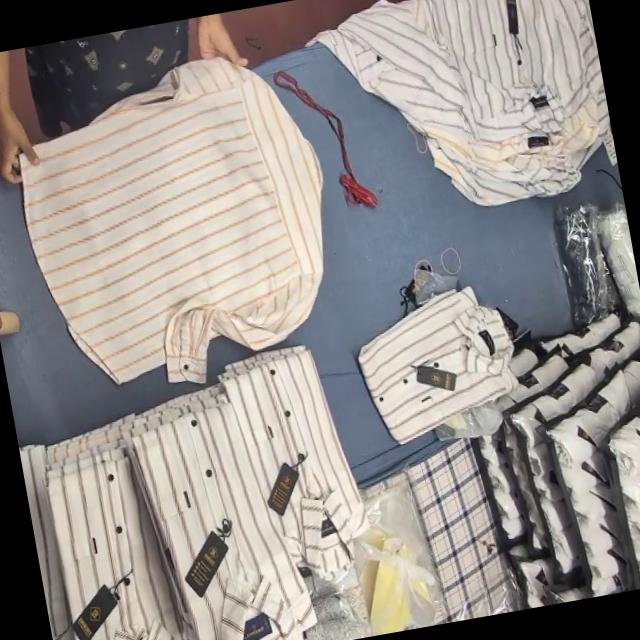new-garment: (20, 58, 321, 382)
